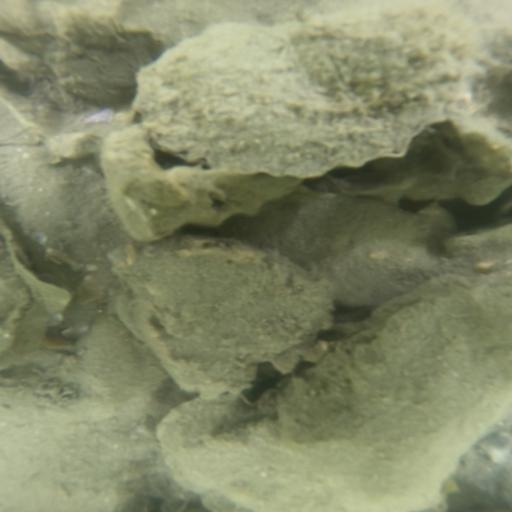Oyster-Closed: (228, 264, 512, 512), (138, 6, 486, 174), (118, 242, 333, 382), (273, 198, 457, 306)
